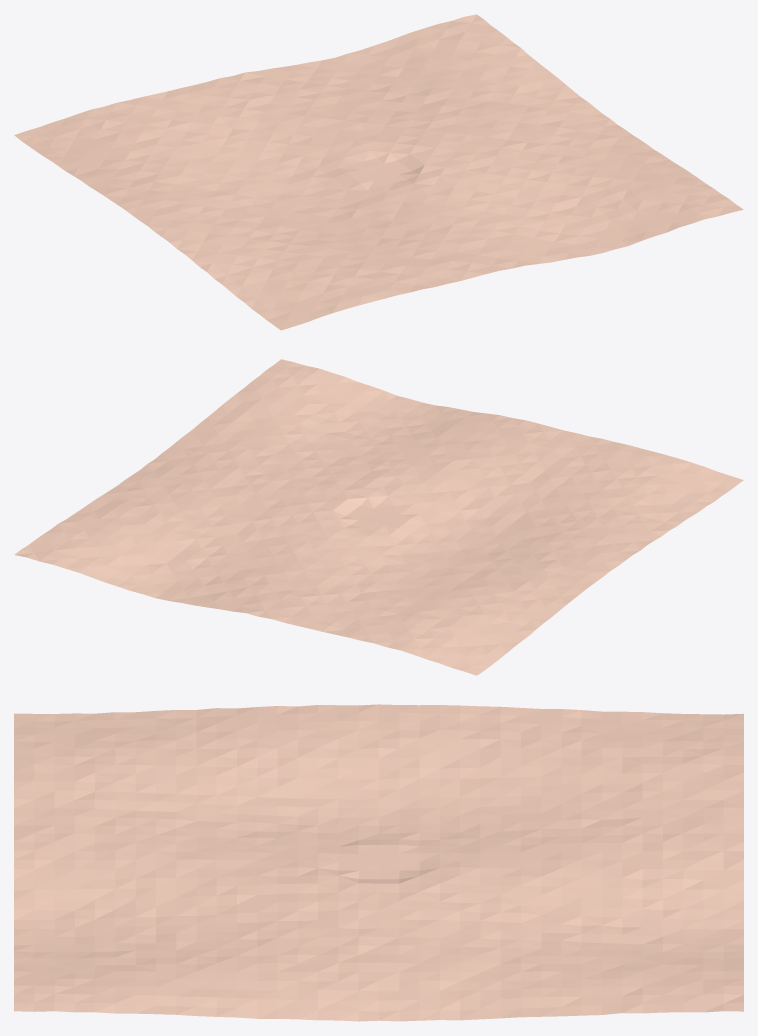
The model's file is terrain_ground.glb.
The picture shows the model from 3 angles, top to bottom: view 1: azimuth 30°, elevation 25°; view 2: azimuth 150°, elevation 25°; view 3: azimuth 270°, elevation 25°; orthographic projection. The views are drawn at different scales.
Parts seen in each view (by area): view 1: TerrainGround; view 2: TerrainGround; view 3: TerrainGround.
Boxes of the visible parts, box(x1,y1,x2,y2) form: TerrainGround: box(14, 14, 743, 330); TerrainGround: box(14, 359, 743, 675); TerrainGround: box(14, 704, 743, 1021).
Bounding box in the file's own units: 110 × 2.14 × 110.
